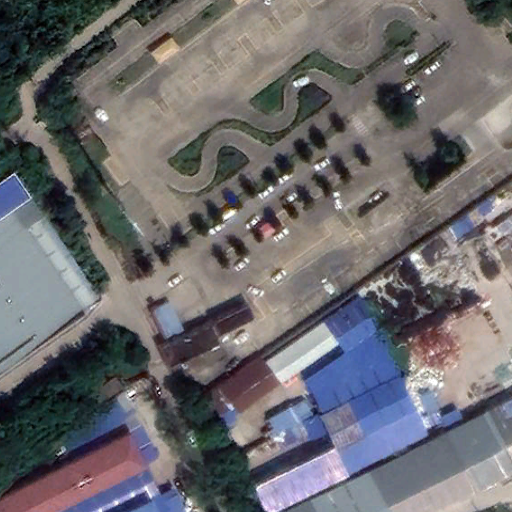msw: (403, 328, 463, 408)
